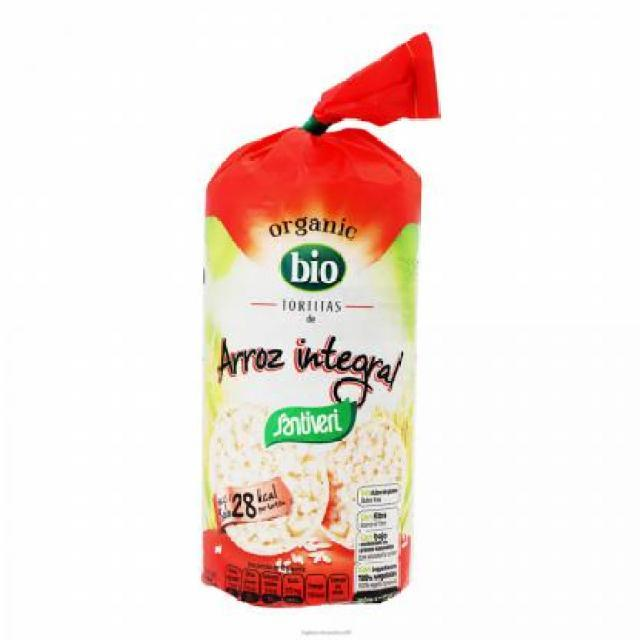Gallette di riso: (200, 31, 438, 607)
